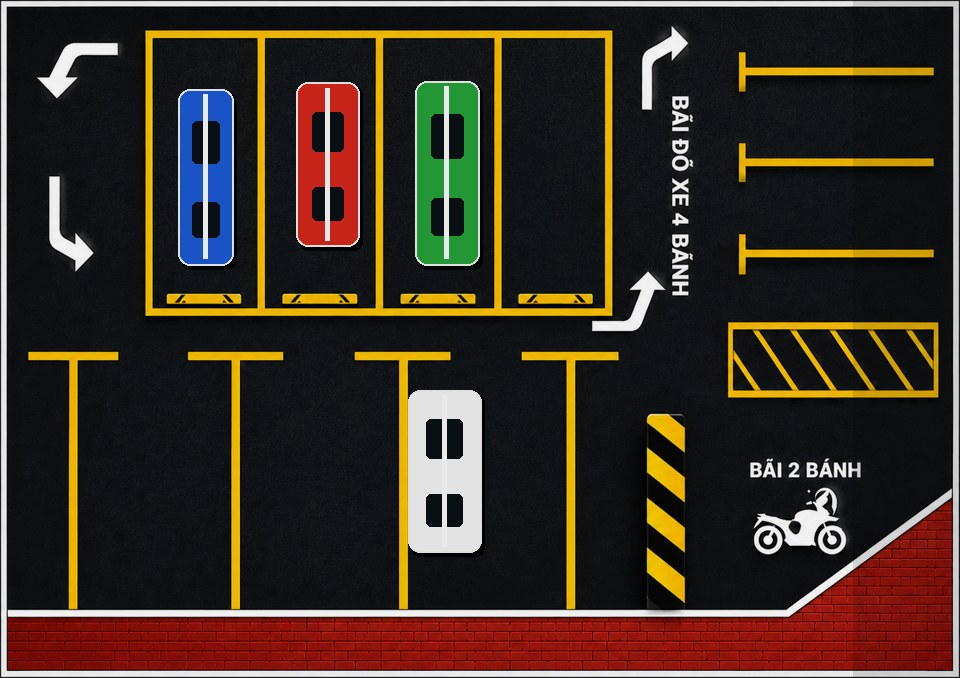empty: (35, 351, 199, 598), (201, 351, 357, 598), (524, 351, 672, 598), (505, 35, 624, 309)
occupied: (360, 351, 518, 598), (148, 35, 267, 309), (267, 35, 386, 309), (386, 35, 505, 309)
